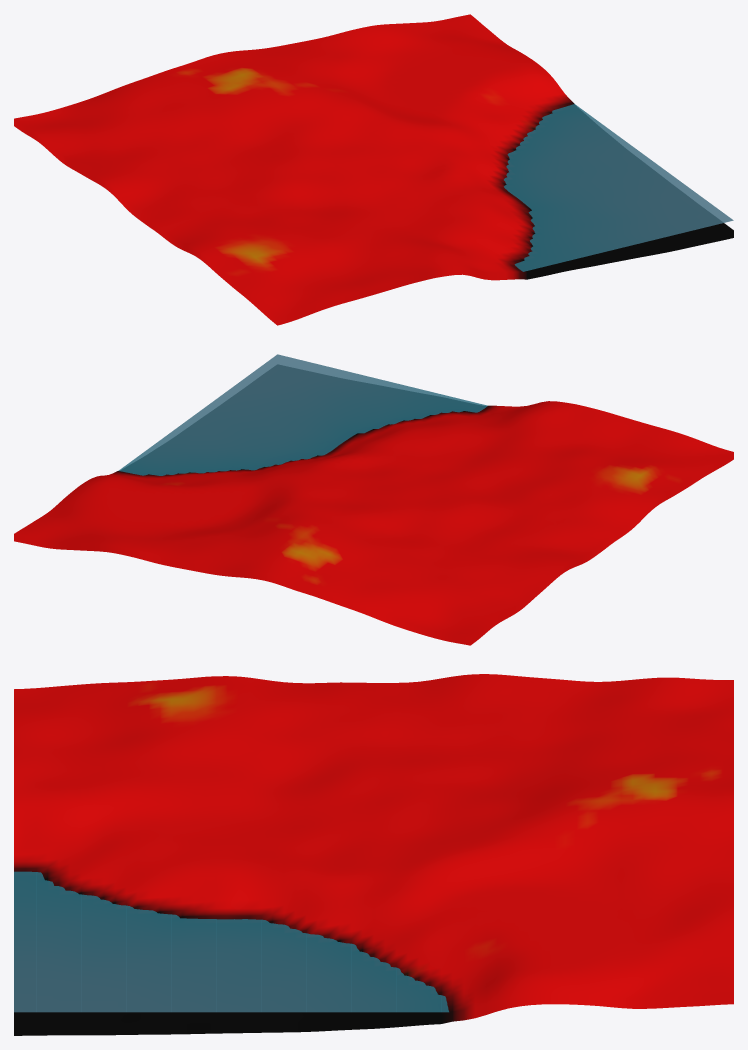
Rendered from chunk_1_5.glb.
3 views of the same model, one above another, from view 1: azimuth 30°, elevation 25°; view 2: azimuth 150°, elevation 25°; view 3: azimuth 270°, elevation 25° (orthographic). The views are drawn at different scales.
Visible parts, largest first — view 1: LOD0, Water; view 2: LOD0, Water; view 3: LOD0, Water.
Boxes of the visible parts, left/top/right/bottom form: LOD0: left=14, top=14, right=733, bottom=325; Water: left=504, top=104, right=733, bottom=271; LOD0: left=14, top=366, right=733, bottom=645; Water: left=118, top=354, right=487, bottom=475; LOD0: left=14, top=674, right=733, bottom=1035; Water: left=14, top=871, right=448, bottom=1012.
Size of what is drawn, in the model's own units: 256 by 29.04 by 256.
